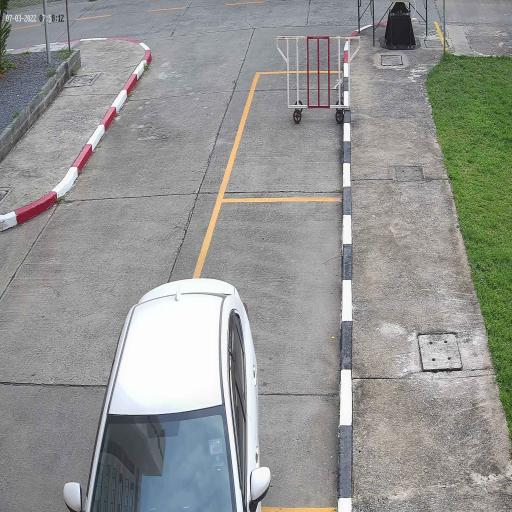car: (83, 277, 261, 512)
